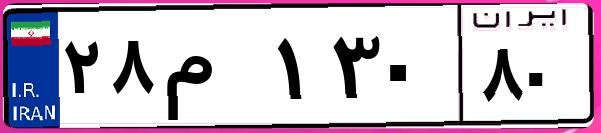0: (385, 28, 445, 110), (525, 38, 570, 115)
1: (270, 28, 330, 110)
2: (57, 26, 110, 100)
3: (330, 28, 385, 110)
8: (475, 38, 525, 113), (110, 28, 158, 98)
م: (158, 20, 270, 120)
